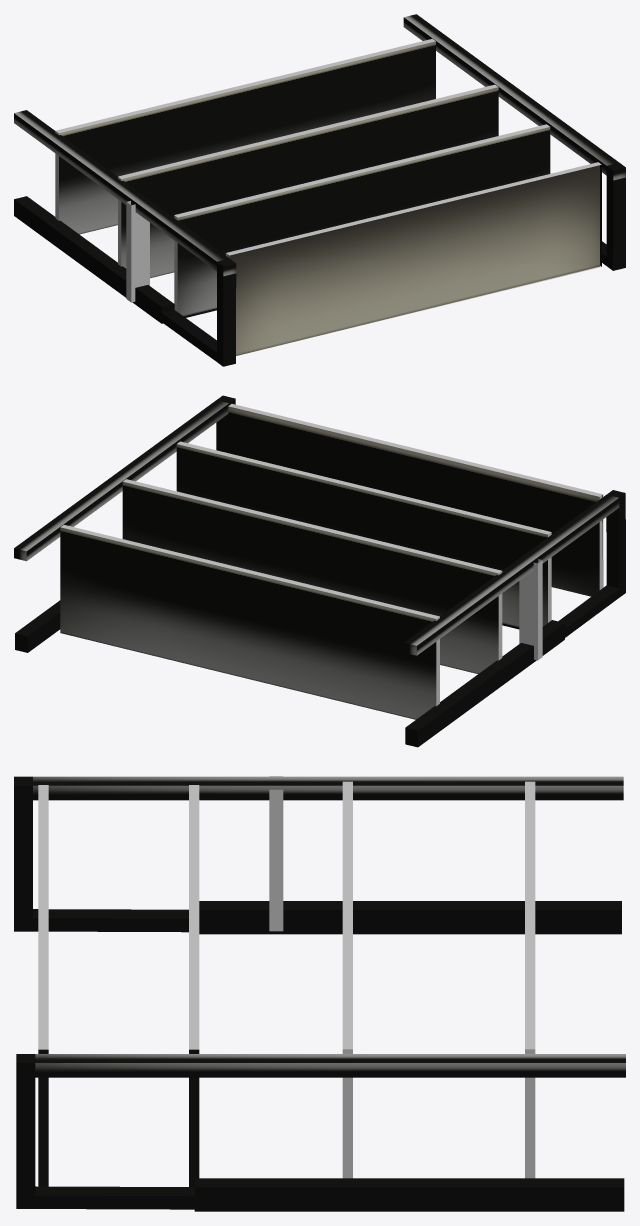
The model's file is shelveswide_wtf.obj.
The picture shows the model from 3 angles, top to bottom: view 1: azimuth 30°, elevation 25°; view 2: azimuth 150°, elevation 25°; view 3: azimuth 270°, elevation 25°; orthographic projection. The views are drawn at different scales.
Parts seen in each view (by area): view 1: group4, group6, group2, group3, group10; view 2: group4, group6, group2, group3, group10, group9; view 3: group2, group6, group3, group10, group8, group7.
Part boxes in pixels (left/top/right/bottom): group4: left=59, top=41, right=599, bottom=355; group6: left=14, top=110, right=236, bottom=366; group2: left=403, top=14, right=625, bottom=270; group3: left=55, top=39, right=601, bottom=348; group10: left=55, top=131, right=149, bottom=302; group4: left=60, top=406, right=603, bottom=719; group6: left=404, top=490, right=625, bottom=747; group2: left=14, top=395, right=235, bottom=652; group3: left=61, top=404, right=602, bottom=618; group10: left=436, top=559, right=542, bottom=705; group9: left=548, top=494, right=603, bottom=622; group2: left=16, top=1054, right=625, bottom=1211; group6: left=14, top=776, right=623, bottom=934; group3: left=38, top=781, right=535, bottom=1049; group10: left=269, top=776, right=535, bottom=1178; group8: left=38, top=1049, right=48, bottom=1186; group7: left=189, top=1049, right=199, bottom=1186.
Size of the model in its own units: 660 by 164 by 589.
